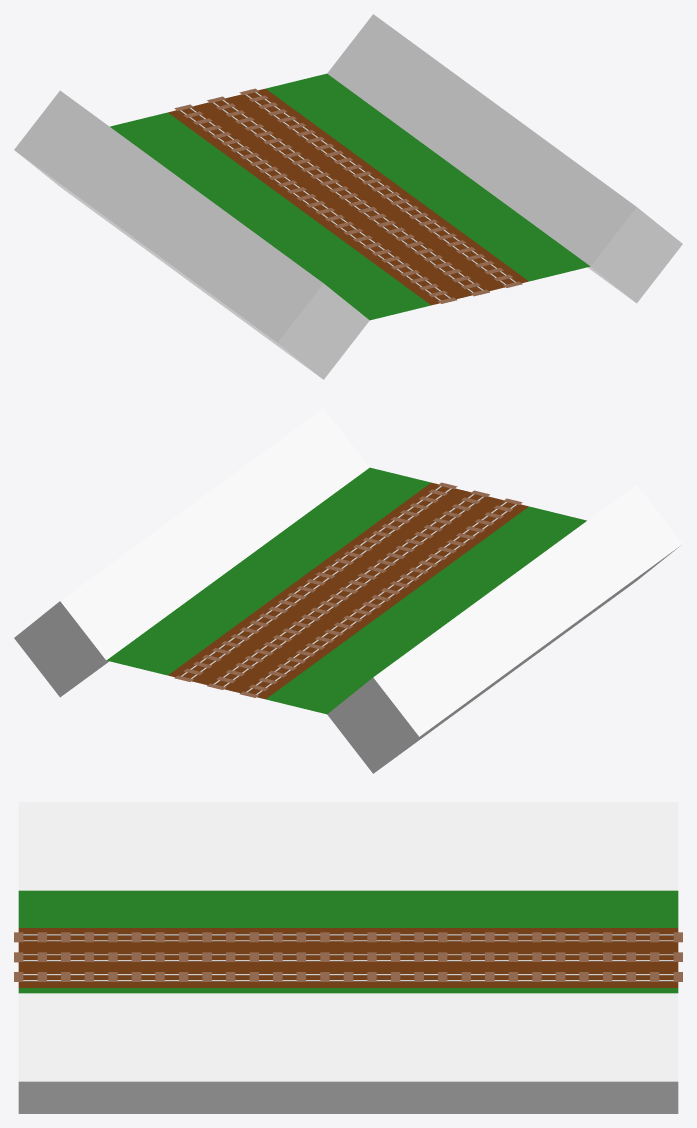
Rendered from ThePlace.fbx.
3 views of the same model, one above another, from view 1: azimuth 30°, elevation 25°; view 2: azimuth 150°, elevation 25°; view 3: azimuth 270°, elevation 25° (orthographic). The views are drawn at different scales.
Parts seen in each view (by area): view 1: ThingyLeft, ThingyRight, WalkPlace, RightSide, LeftSide; view 2: ThingyLeft, ThingyRight, WalkPlace, RightSide, LeftSide; view 3: ThingyRight, ThingyLeft, WalkPlace, LeftSide, RightSide, LeftLeft, MiddleLeft, MiddleRight, RightLeft, RightRight, LeftRight.
Part boxes in pixels (x1,y1,x2,y2): ThingyLeft: (14,90,369,379); ThingyRight: (327,14,682,303); WalkPlace: (168,88,528,305); RightSide: (266,73,590,281); LeftSide: (110,112,430,320); ThingyLeft: (327,484,682,773); ThingyRight: (14,408,369,697); WalkPlace: (168,482,528,699); RightSide: (106,467,430,675); LeftSide: (266,506,586,714); ThingyRight: (18,993,678,1113); ThingyLeft: (18,802,678,890); WalkPlace: (18,928,678,987); LeftSide: (18,890,678,927); RightSide: (18,988,678,993); LeftLeft: (23,934,673,935); MiddleLeft: (23,954,673,955); MiddleRight: (23,960,673,961); RightLeft: (23,974,673,975); RightRight: (23,980,673,981); LeftRight: (23,940,673,941).
Size of the model in its own units: 1243 by 1420 by 283.
